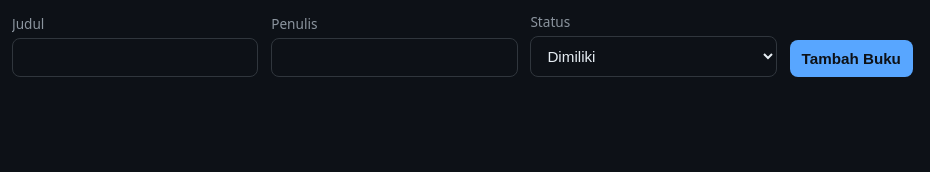
Test: BookForm › menampilkan pesan error saat input kosong
Click the button "Tambah Buku".
click(851, 58)  # box top-left (790, 40), bottom-right (913, 77)
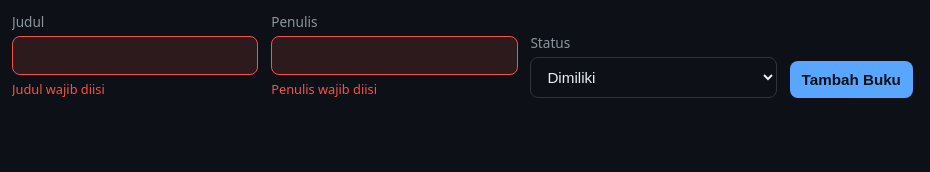
Now the text "Judul wajib diisi" is shown, box top-left (12, 80), bottom-right (105, 98)
Now the text "Penulis wajib diisi" is shown, box top-left (271, 80), bottom-right (377, 98)
